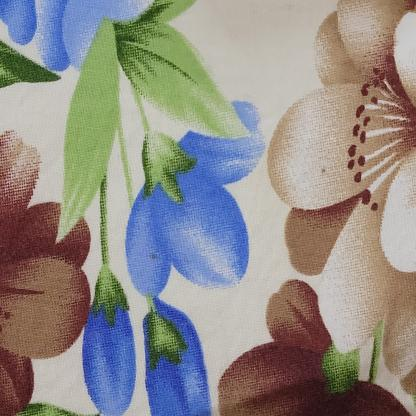spot: (146, 247, 161, 263), (320, 160, 326, 179)
